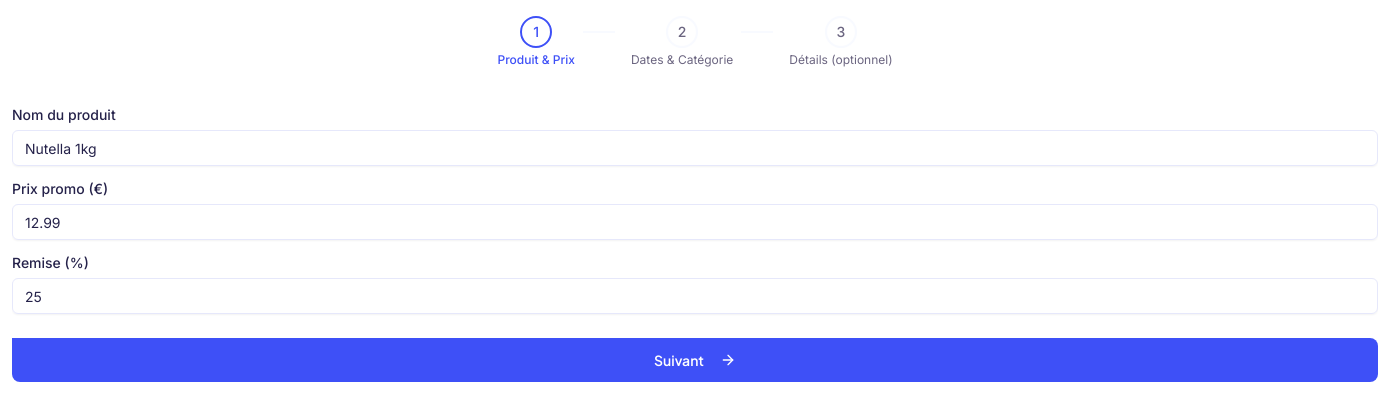
Test: EditOfferForm › step navigation › navigates to step 2 when step 1 is valid
Click the button "Suivant".
click(695, 360)  # box top-left (12, 338), bottom-right (1378, 382)
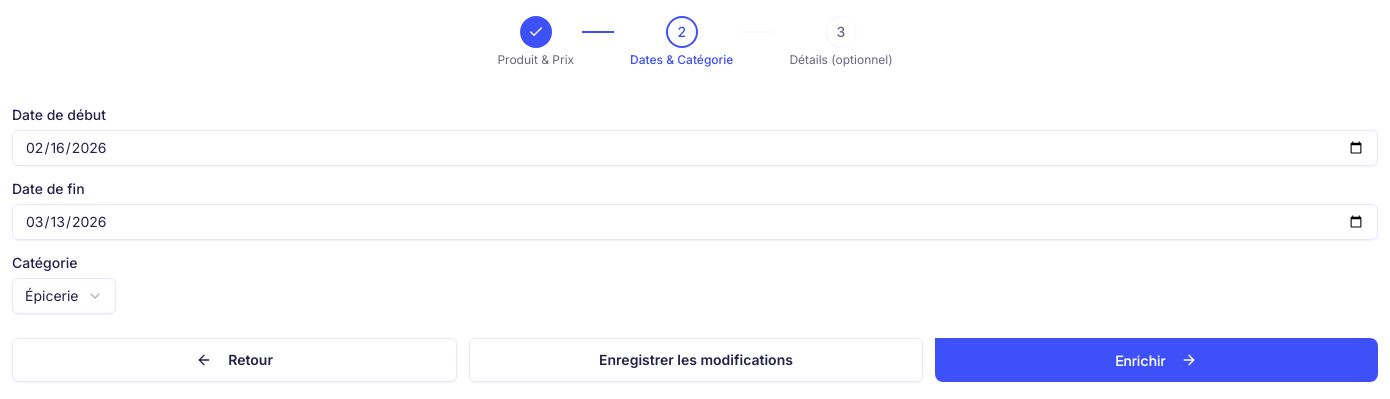
expect the date field labelled "Date de début" is shown: met, box top-left (12, 130), bottom-right (1378, 166)
